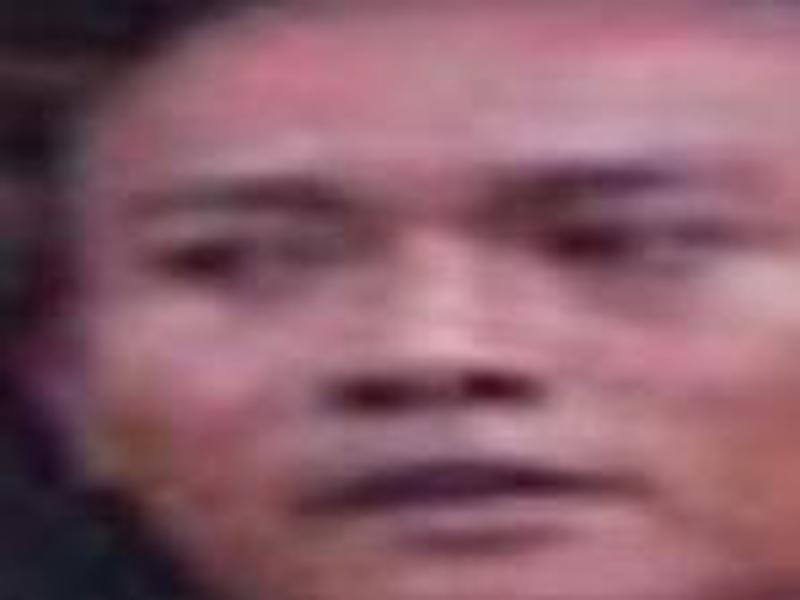without_mask: (36, 4, 793, 593)
